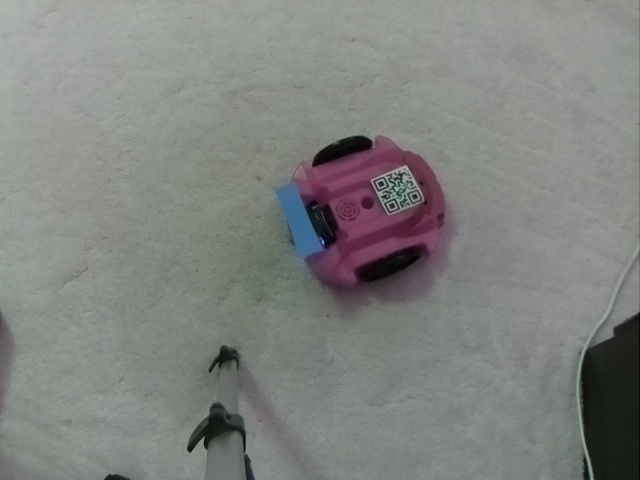chassis: (281, 133, 453, 290)
qr: (372, 165, 429, 216)
